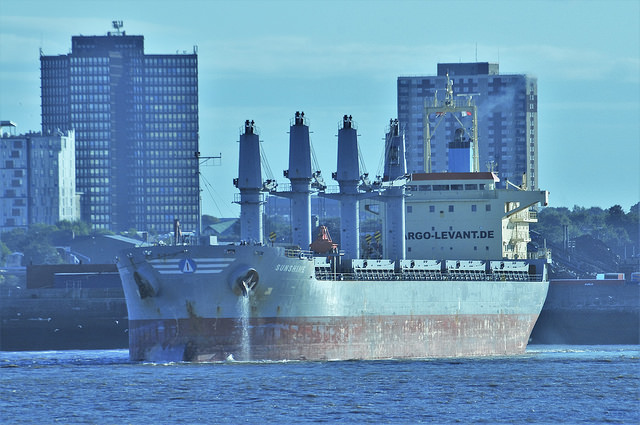bulk carrier: (113, 80, 550, 359)
